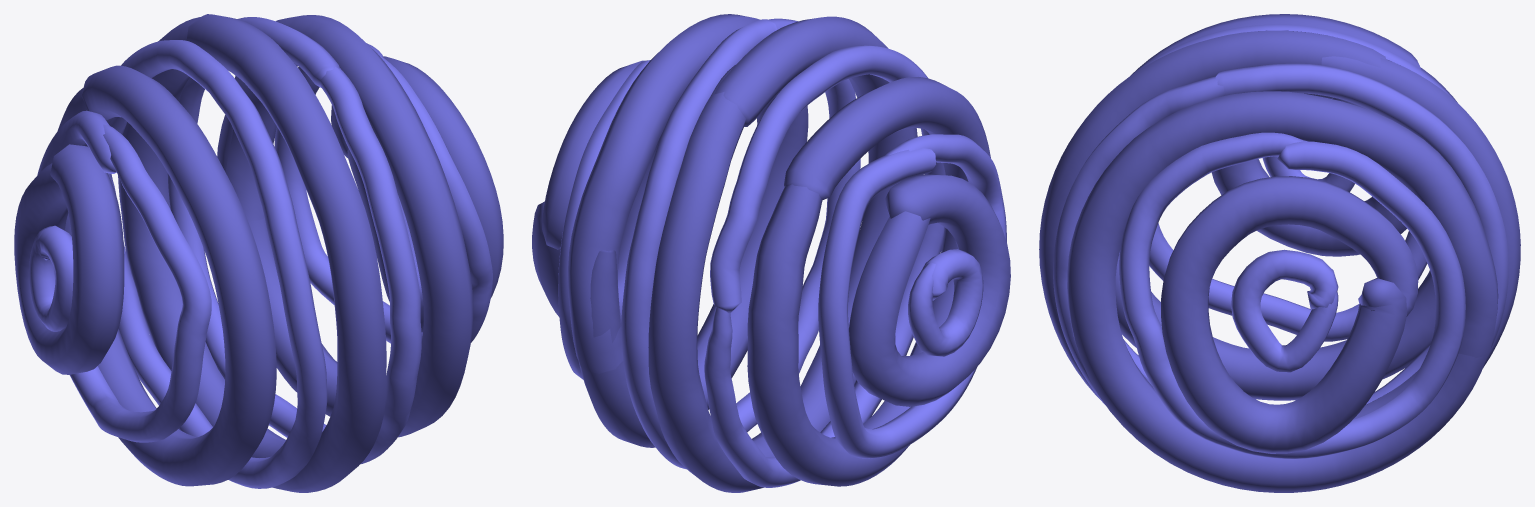
3 renders of one model, left to right at view 1: azimuth 30°, elevation 25°; view 2: azimuth 150°, elevation 25°; view 3: azimuth 270°, elevation 25°, orthographic.
Parts seen in each view (by area): view 1: brush_Disco_g0_b0, brush_ChromaticWave_g0_b0; view 2: brush_Disco_g0_b0, brush_ChromaticWave_g0_b0; view 3: brush_Disco_g0_b0, brush_ChromaticWave_g0_b0.
Boxes of the visible parts, bbox=[...] form: brush_Disco_g0_b0: bbox=[14, 14, 503, 492]; brush_ChromaticWave_g0_b0: bbox=[29, 17, 492, 488]; brush_Disco_g0_b0: bbox=[532, 14, 1010, 492]; brush_ChromaticWave_g0_b0: bbox=[558, 18, 1006, 487]; brush_Disco_g0_b0: bbox=[1039, 14, 1520, 492]; brush_ChromaticWave_g0_b0: bbox=[1053, 24, 1508, 459].
Bounding box in the file's own units: 0.894 × 0.9222 × 0.922.
